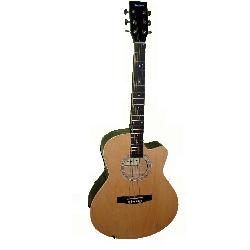guitar: (88, 2, 179, 240)
